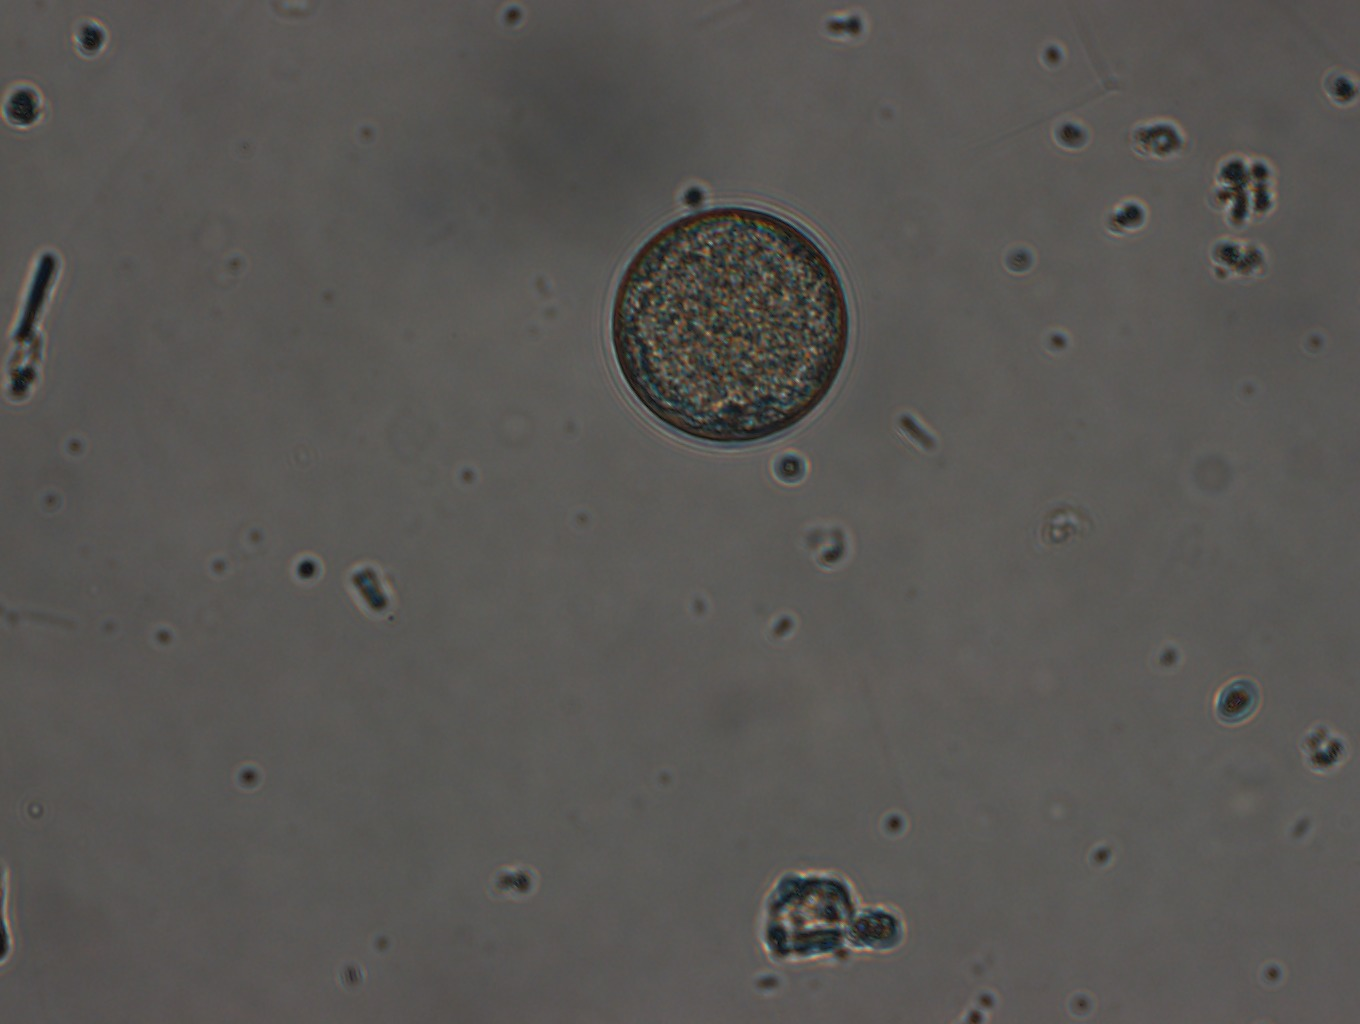coscinodiscus: (598, 204, 865, 450)
